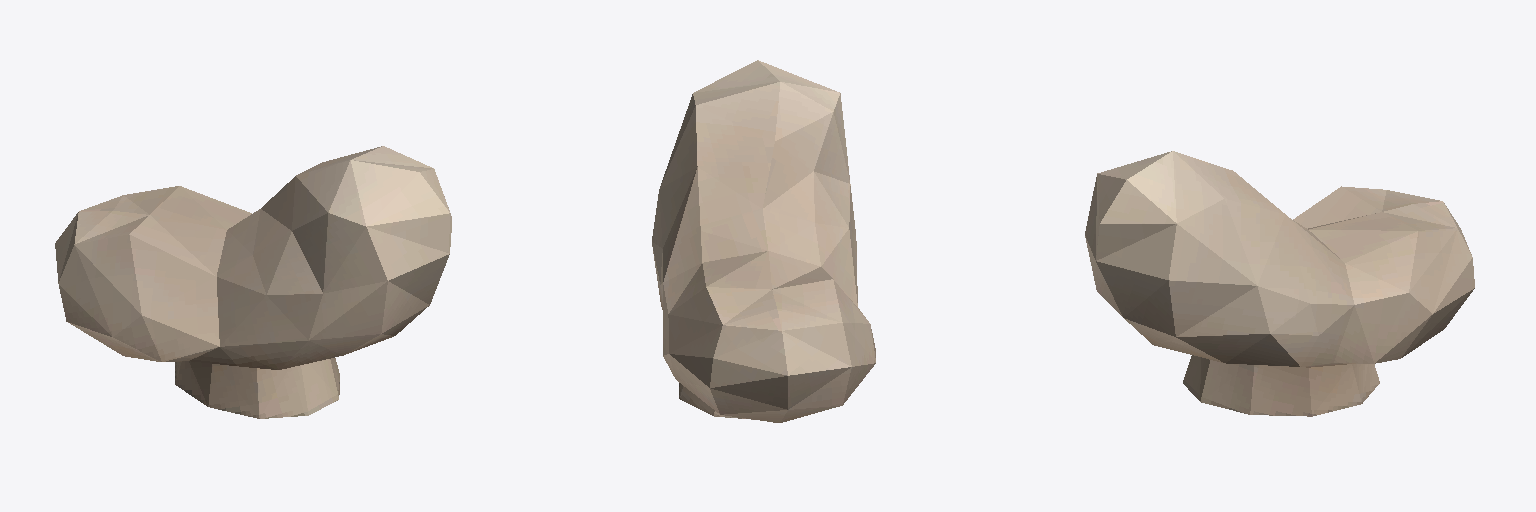
3 renders of one model, left to right at view 1: azimuth 30°, elevation 25°; view 2: azimuth 150°, elevation 25°; view 3: azimuth 270°, elevation 25°, orthographic.
Visible parts, largest first — view 1: chef_hat_emp; view 2: chef_hat_emp; view 3: chef_hat_emp.
Part boxes in pixels (left/top/right/bottom): chef_hat_emp: left=55, top=146, right=451, bottom=418; chef_hat_emp: left=652, top=60, right=875, bottom=422; chef_hat_emp: left=1085, top=151, right=1474, bottom=416.
Bounding box in the file's own units: 3.63 × 3.08 × 4.35.
1 materials, 1 textured.